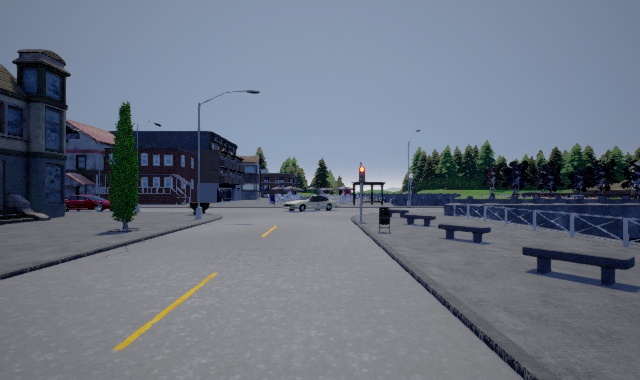traffic_light: (359, 164, 365, 186)
vehicle: (282, 195, 339, 212), (65, 195, 112, 212)
